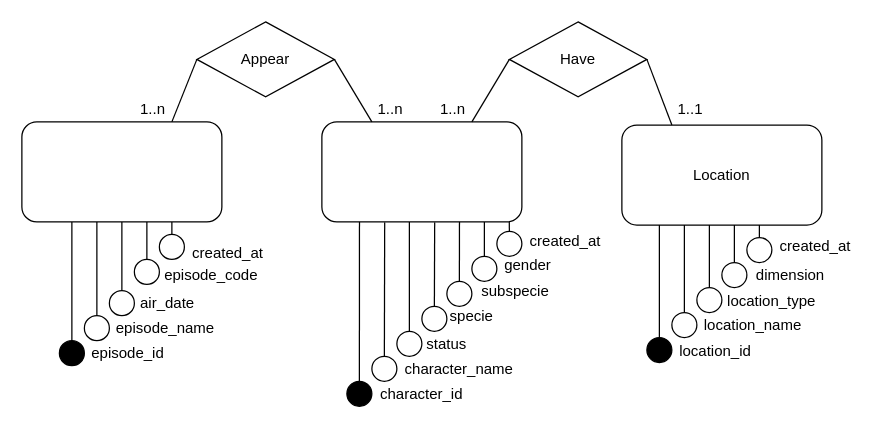
This 881x434 diagram has some shape labels left out. The centre of each missing label's shape, as x and y in pixels:
"Character" goes at point 421,171.
"Episode" goes at point 121,171.
